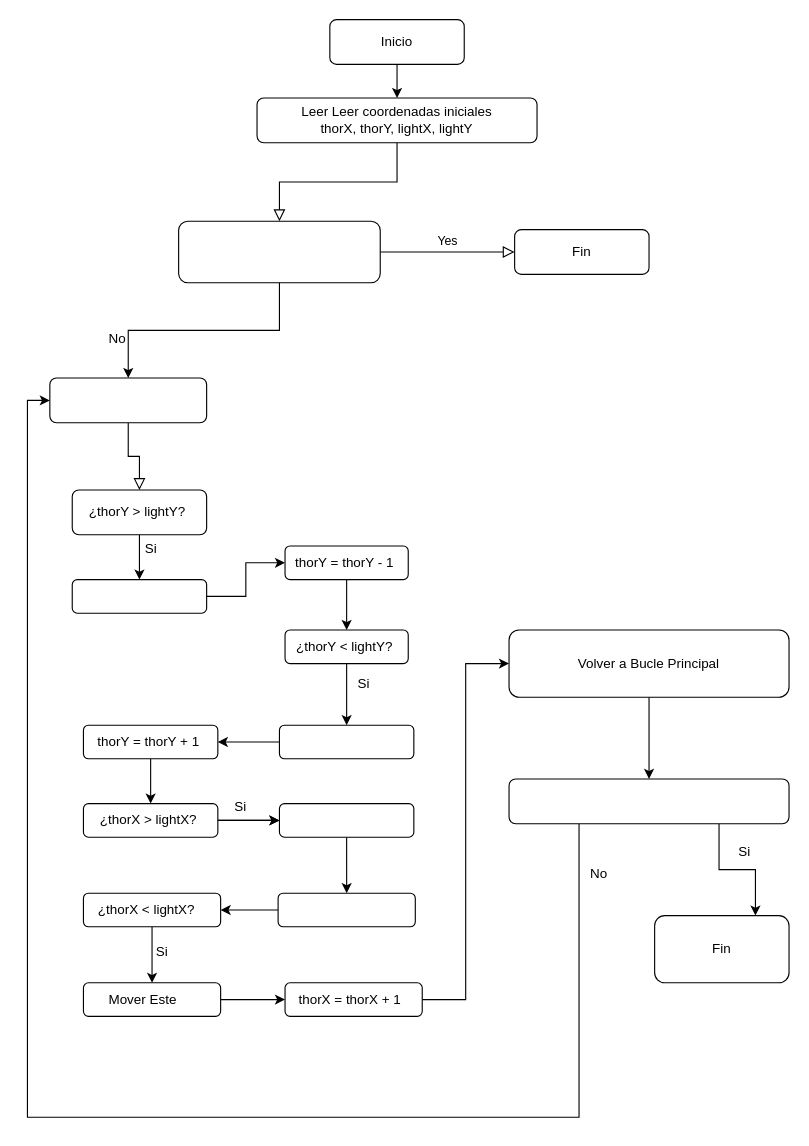
The diagram is 809 pixels wide and 1146 high, and some of its shapes have lost their labels. Here are the shapes that lost their labels. From the top down, the centre of each, then its label:
At point 279,251: "¿thorX == lightX y thorY == lightY?".
At point 128,400: "Determinar Direccion".
At point 139,595: "Mover Norte".
At point 346,741: "Mover Sur".
At point 346,819: "Mover Oeste".
At point 648,801: "¿thorX == lightX && thorY == lightY?".
At point 346,909: "thorX = thorX - 1".
